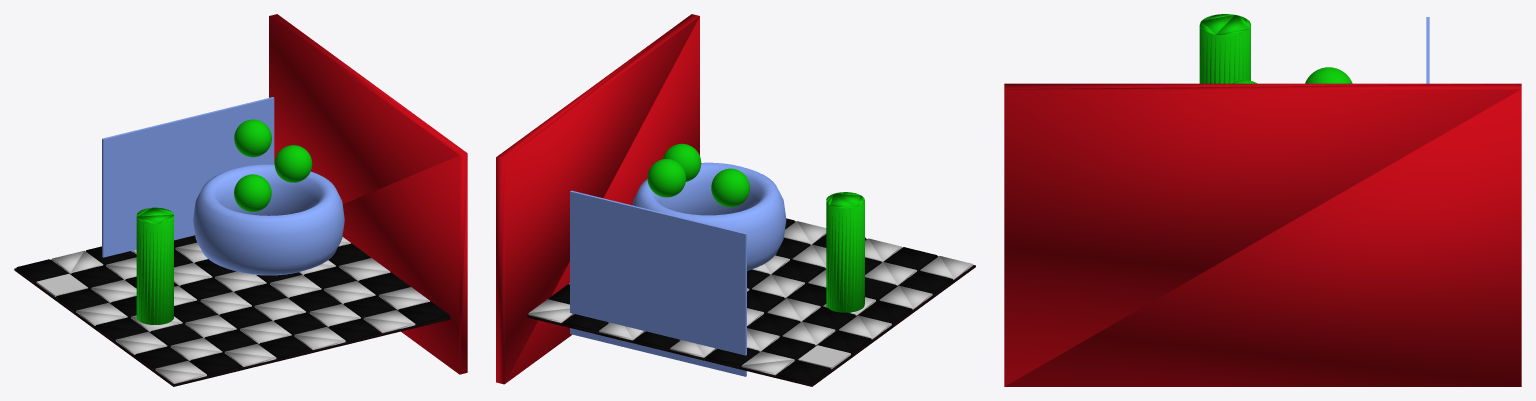
Rendered from chessReal.obj.
3 renders of one model, left to right at view 1: azimuth 30°, elevation 25°; view 2: azimuth 150°, elevation 25°; view 3: azimuth 270°, elevation 25°, orthographic. The views are drawn at different scales.
Visible parts, largest first — view 1: Cube.001_Cube.242, Cube, Torus, Cylinder, Icosphere.001, Icosphere.002, Icosphere, Tile.001_Cube.009, Tile.014_Cube.082, Tile.049_Cube.195, Tile.033_Cube.179, Tile.017_Cube.111 (+39 smaller); view 2: Cube.001_Cube.242, Cube, Torus, Cylinder, Icosphere, Icosphere.002, Icosphere.001, Tile.015_Cube.083, Tile.006_Cube.038, Tile.011_Cube.079, Tile.007_Cube.039, Tile.018_Cube.112 (+27 smaller); view 3: Cube.001_Cube.242, Cylinder, Icosphere.002.
Boxes of the visible parts, x1,y1,x2,y2 form: Cube.001_Cube.242: (269, 14, 467, 374); Cube: (102, 97, 274, 257); Torus: (193, 164, 344, 275); Cylinder: (136, 207, 173, 324); Icosphere.001: (274, 145, 312, 182); Icosphere.002: (234, 119, 271, 157); Icosphere: (234, 174, 271, 211); Tile.001_Cube.009: (155, 361, 206, 383); Tile.014_Cube.082: (190, 352, 241, 375); Tile.049_Cube.195: (329, 318, 380, 341); Tile.033_Cube.179: (363, 310, 415, 333); Tile.017_Cube.111: (260, 335, 311, 358); Cube.001_Cube.242: (496, 14, 699, 384); Cube: (570, 190, 746, 376); Torus: (632, 162, 786, 270); Cylinder: (826, 192, 864, 313); Icosphere: (711, 168, 749, 207); Icosphere.002: (647, 159, 686, 197); Icosphere.001: (663, 143, 701, 181); Tile.015_Cube.083: (741, 351, 794, 375); Tile.006_Cube.038: (778, 360, 830, 383); Tile.011_Cube.079: (782, 321, 835, 345); Tile.007_Cube.039: (818, 330, 871, 354); Tile.018_Cube.112: (772, 259, 825, 283); Cube.001_Cube.242: (1004, 83, 1521, 386); Cylinder: (1199, 14, 1250, 83); Icosphere.002: (1305, 67, 1352, 83).
Size of the model in its own units: 17.47 by 12.82 by 20.19.
